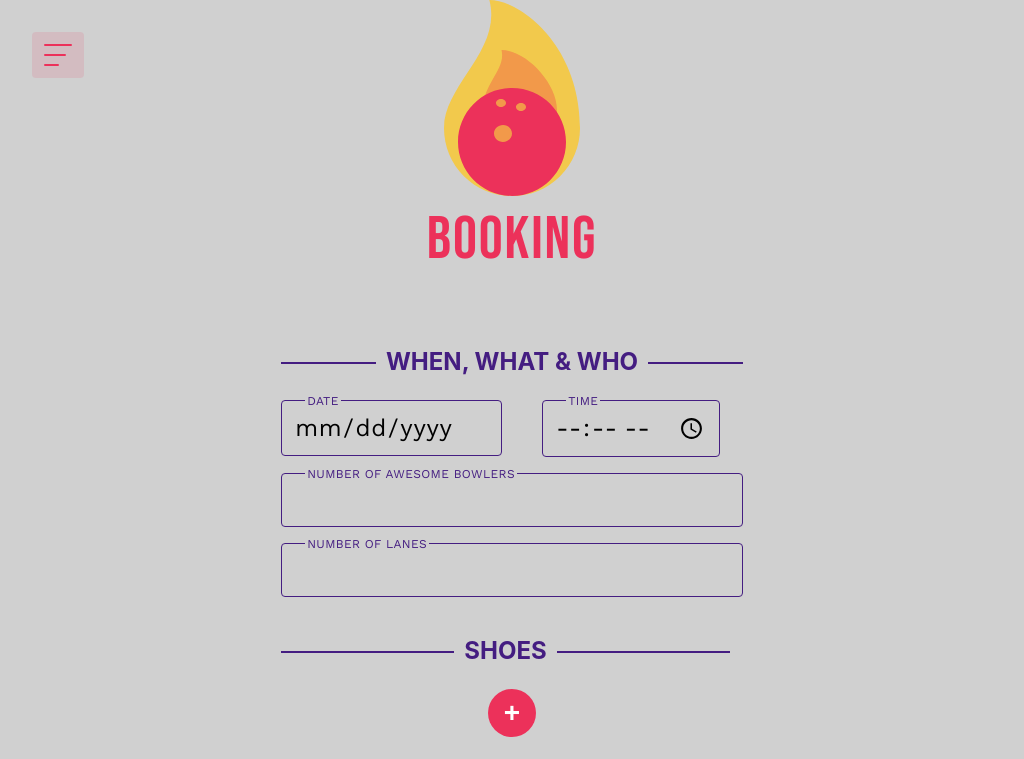
Test: Booking › should make a reservation when the user clicks a button
This screenshot has width=1024, height=759.
Step 1. Type "2024-06-02" into the date field named "when" → (392, 428), box [281,400,502,456]
Step 2. Type "18:15" into the time field named "time" → (631, 428), box [542,400,720,457]
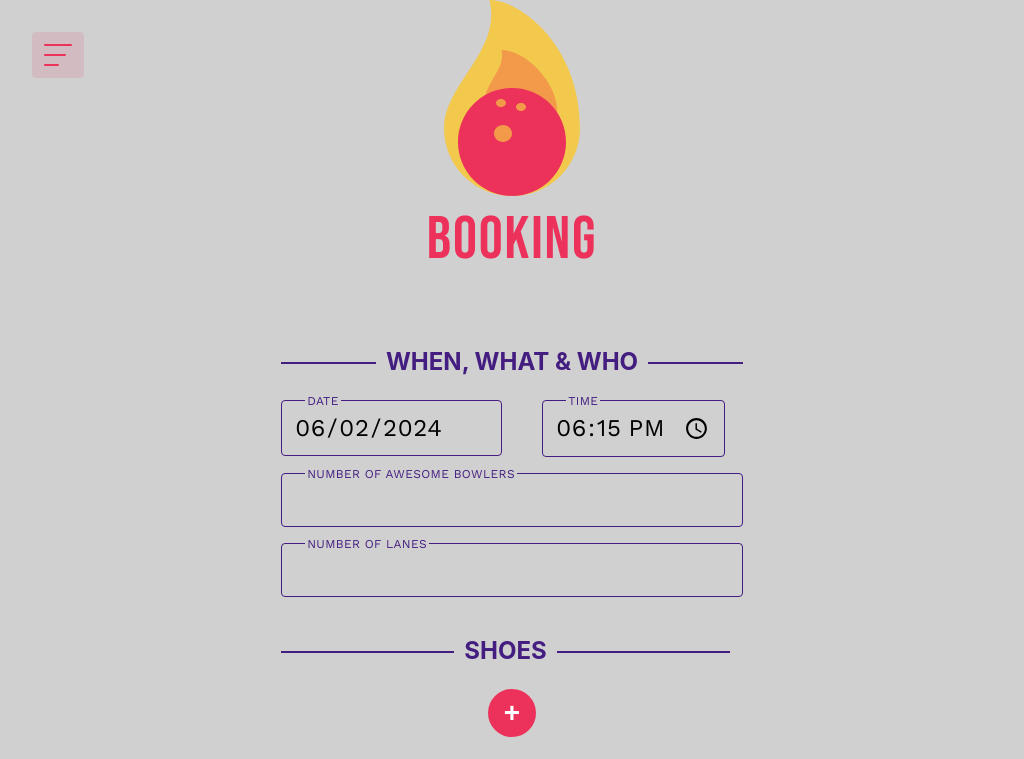
Step 3. Type "1" into the number field named "people" next to "Number of awesome bowlers" → (512, 500), box [281,473,743,527]
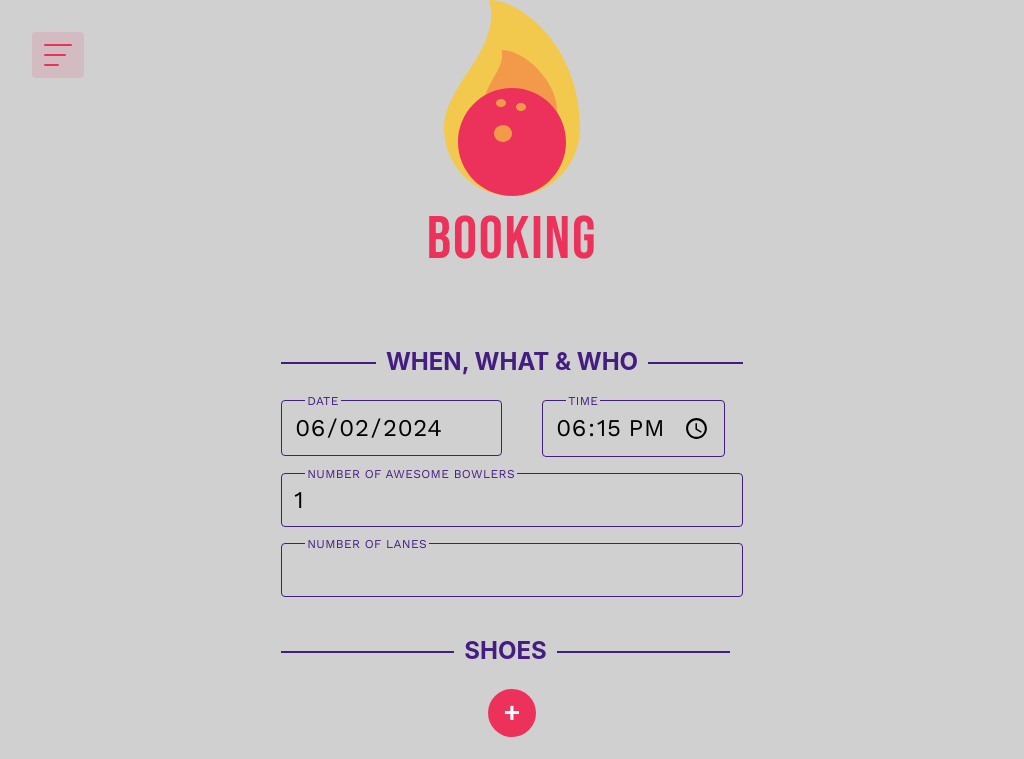
Step 4. Type "1" into the number field named "lanes" next to "Number of lanes" → (512, 570), box [281,543,743,597]
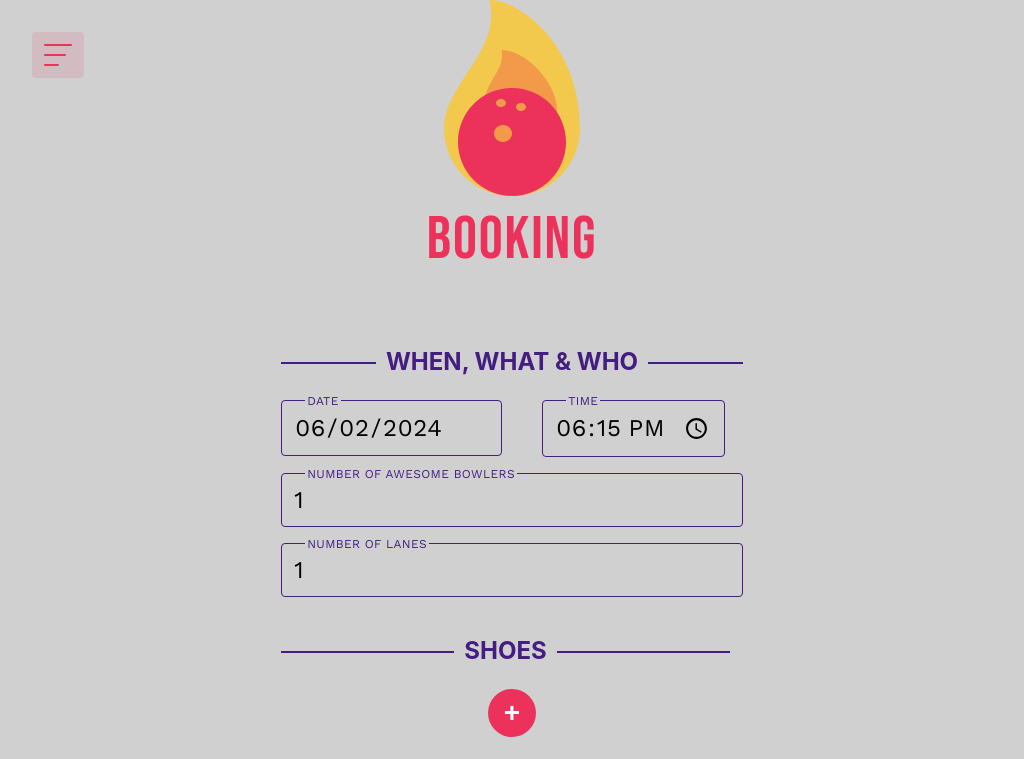
Step 5. Click the button "+" → (512, 713), box [488,689,536,737]
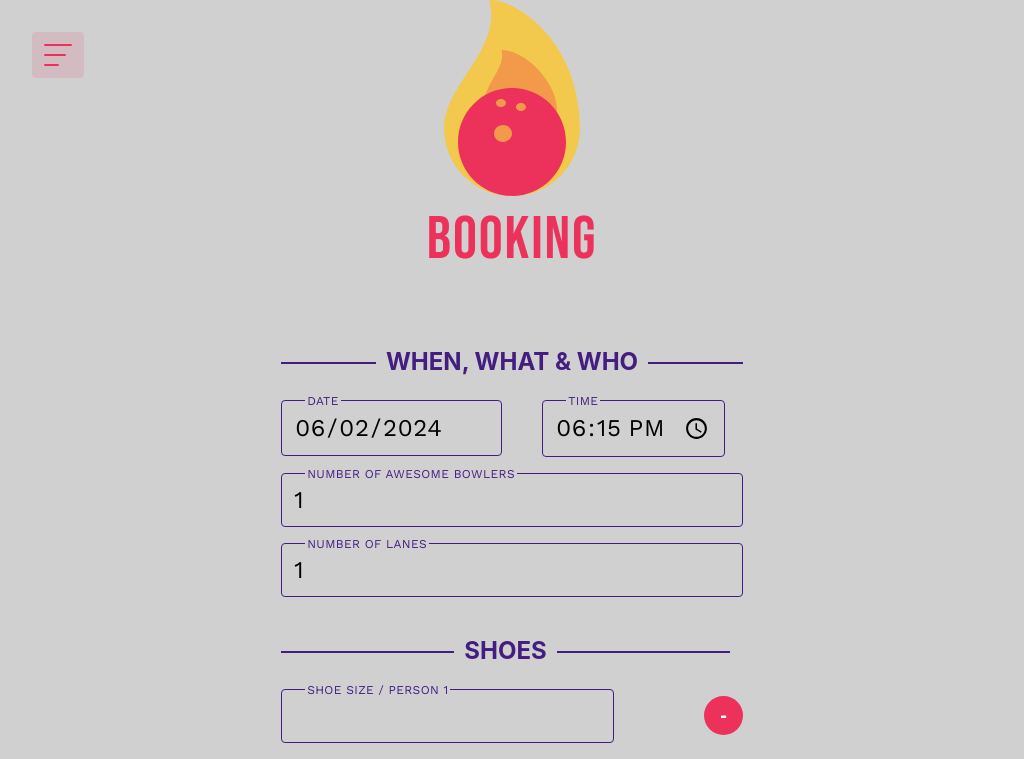
Step 6. Type "42" into the field with class "shoes__input" → (448, 716), box [281,689,614,743]
(page scrolled)
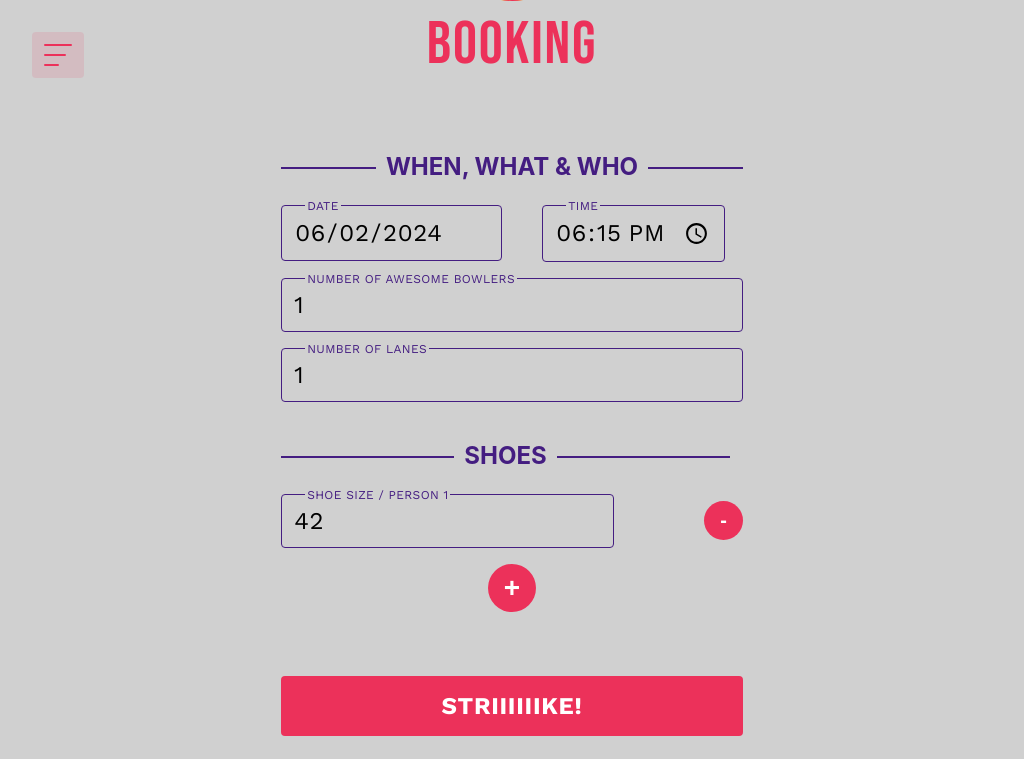
Step 7. Click the button "strIIIIIike!" → (512, 706), box [281,676,743,736]
(page scrolled)
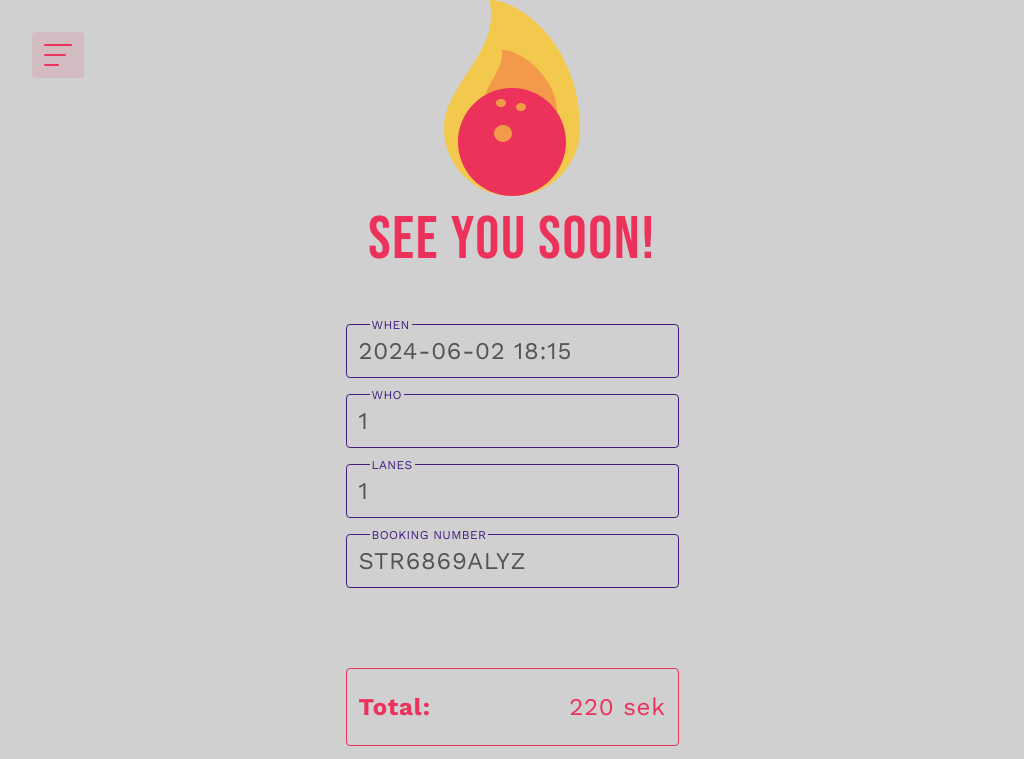
Expected: the element with class "confirmation__price" is shown, [346,668,678,746]
